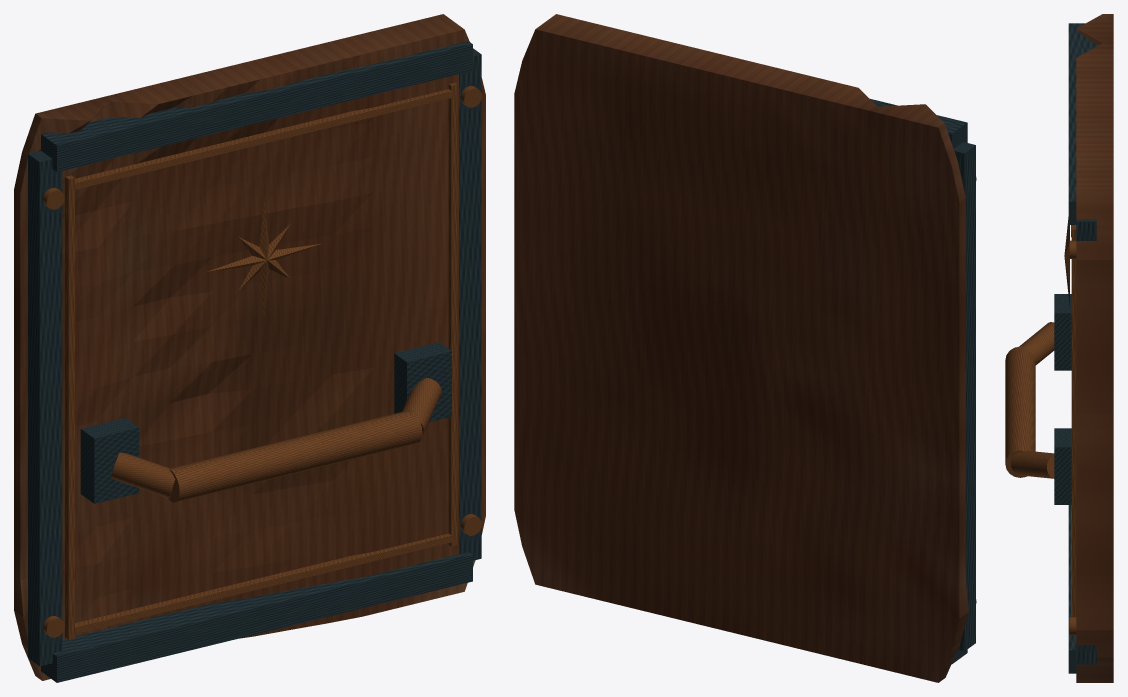
File: aholo-shutter-refined.glb
3 views of the same model, side by side, from view 1: azimuth 30°, elevation 25°; view 2: azimuth 150°, elevation 25°; view 3: azimuth 270°, elevation 25° (orthographic). The views are drawn at different scales.
Visible parts, largest first — view 1: Opaque oak panel · Lux3D relief, Left corner stile, Bottom iron shoe, Top iron shoe, Right corner stile, Carved brass pull, Left brass inlay, Right brass inlay, Top inlaid band, Bottom inlaid band, Left pull mount, Right pull mount (+3 smaller); view 2: Opaque oak panel · Lux3D relief, Left corner stile; view 3: Opaque oak panel · Lux3D relief, Carved brass pull, Right brass inlay, Top iron shoe, Right pull mount, Left pull mount, Right grip return, Right corner stile, Left grip return, Bottom iron shoe, Navigator inlay.
Boxes of the visible parts, x1,y1,x2,y2 form: Opaque oak panel · Lux3D relief: (14,14,485,680); Left corner stile: (28,150,62,666); Bottom iron shoe: (41,552,472,682); Top iron shoe: (41,41,472,171); Right corner stile: (459,48,481,560); Carved brass pull: (168,410,422,502); Left brass inlay: (65,175,74,639); Right brass inlay: (448,82,457,546); Top inlaid band: (74,89,452,189); Bottom inlaid band: (74,533,452,633); Left pull mount: (80,418,139,503); Right pull mount: (394,342,451,422); Opaque oak panel · Lux3D relief: (514,14,968,682); Left corner stile: (953,142,975,651); Opaque oak panel · Lux3D relief: (1076,14,1113,682); Carved brass pull: (1005,346,1035,477); Right brass inlay: (1071,226,1076,616); Top iron shoe: (1068,23,1096,224); Right pull mount: (1054,428,1071,504); Left pull mount: (1054,294,1071,370); Right grip return: (1011,450,1054,478); Right corner stile: (1076,219,1096,664); Left grip return: (1019,322,1054,365); Bottom iron shoe: (1068,505,1076,673); Navigator inlay: (1064,217,1069,307).
Size of the model in its own units: 1.3 by 1.55 by 0.308.
3 materials, 3 textured.
